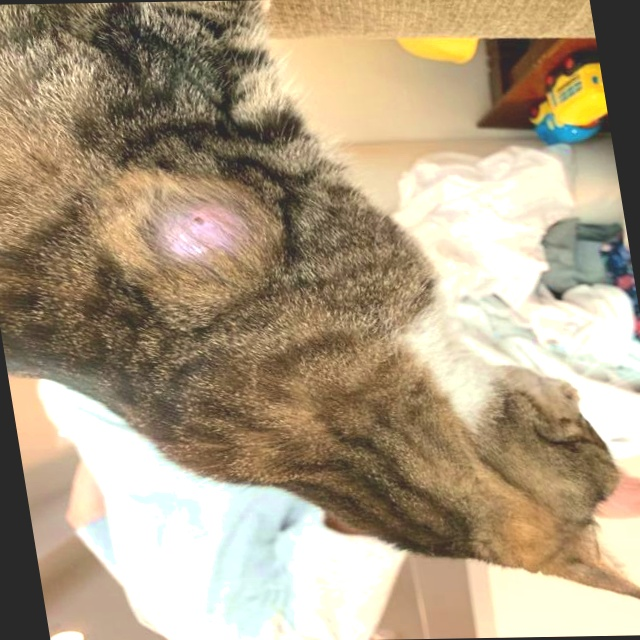lump_and_bump: (139, 197, 258, 271)
